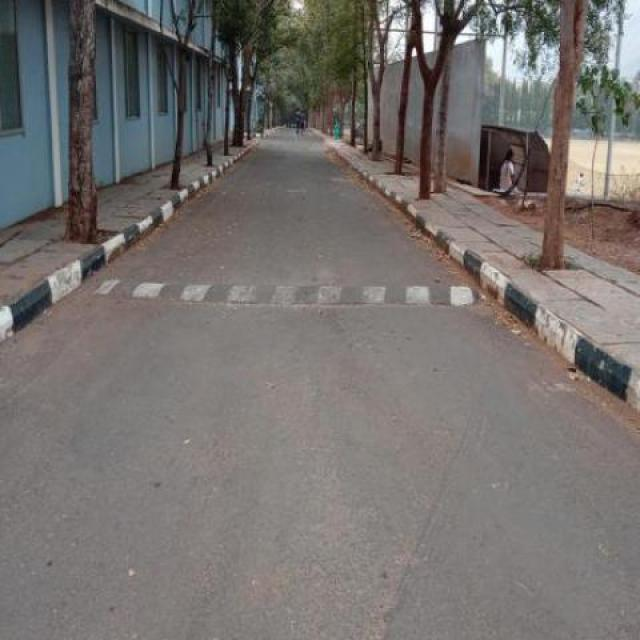Speed Bump: (88, 270, 478, 309)
